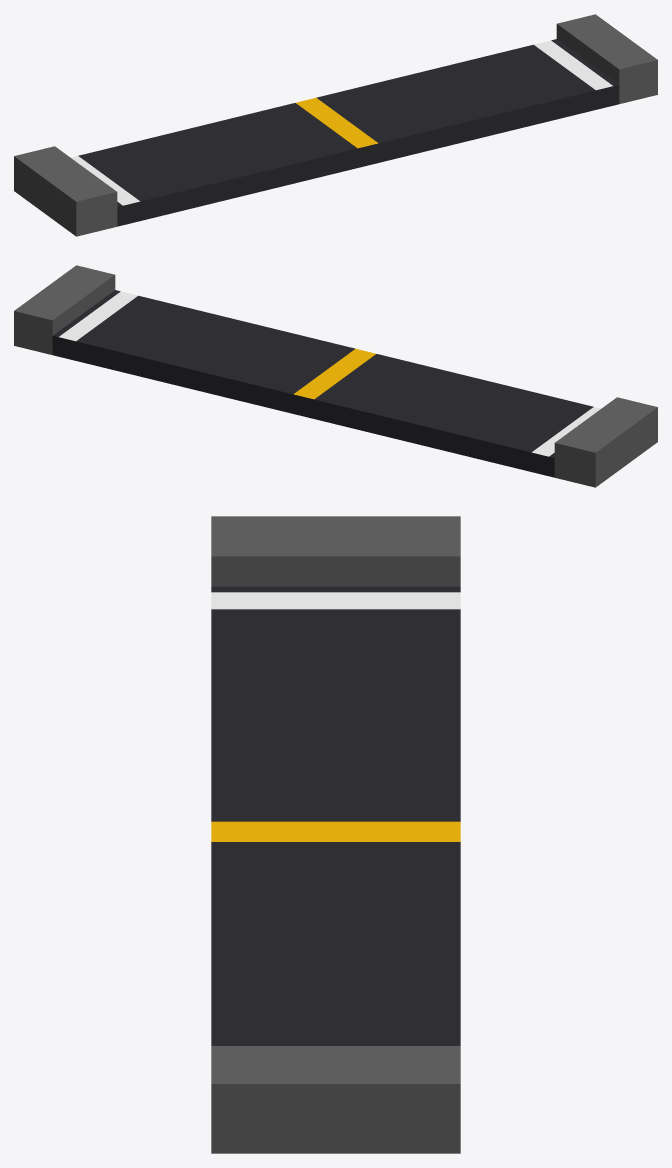
File: 1Lane.fbx
3 renders of one model, top to bottom at view 1: azimuth 30°, elevation 25°; view 2: azimuth 150°, elevation 25°; view 3: azimuth 270°, elevation 25°, orthographic. The views are drawn at different scales.
Parts seen in each view (by area): view 1: Cube; view 2: Cube; view 3: Cube.
Boxes of the visible parts, x1=… form: Cube: x1=14, y1=14, x2=657, y2=236; Cube: x1=14, y1=265, x2=657, y2=487; Cube: x1=211, y1=516, x2=460, y2=1153.
Size of the model in its own units: 215 by 12.29 by 39.87.
